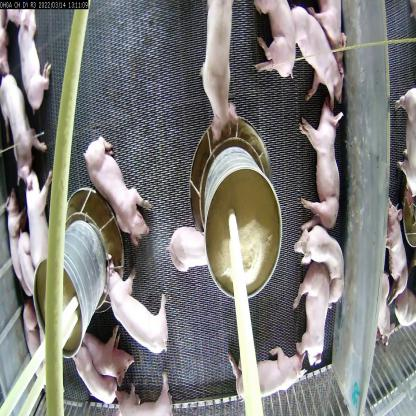Pig: (80, 130, 152, 249), (284, 5, 353, 112), (294, 101, 354, 216), (104, 264, 176, 354), (229, 321, 306, 402), (237, 0, 310, 84), (187, 0, 234, 122), (295, 211, 360, 293), (23, 166, 67, 280), (7, 3, 53, 112), (294, 267, 338, 379), (76, 314, 135, 386), (0, 61, 34, 168), (60, 348, 107, 415), (168, 211, 216, 276), (108, 367, 172, 415), (3, 206, 30, 296)
